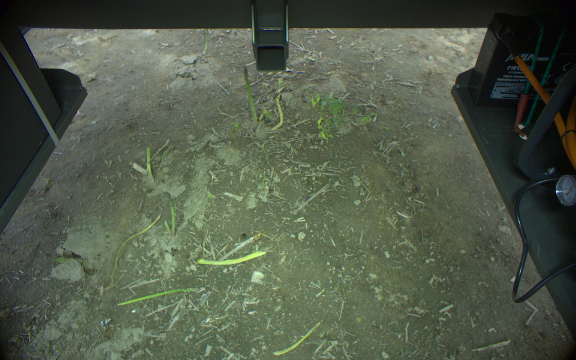aspa: (117, 285, 201, 309), (275, 318, 323, 360), (197, 249, 269, 265), (242, 64, 260, 124), (269, 94, 284, 131), (167, 198, 177, 237), (145, 146, 154, 183), (201, 29, 211, 58), (162, 218, 172, 235)
